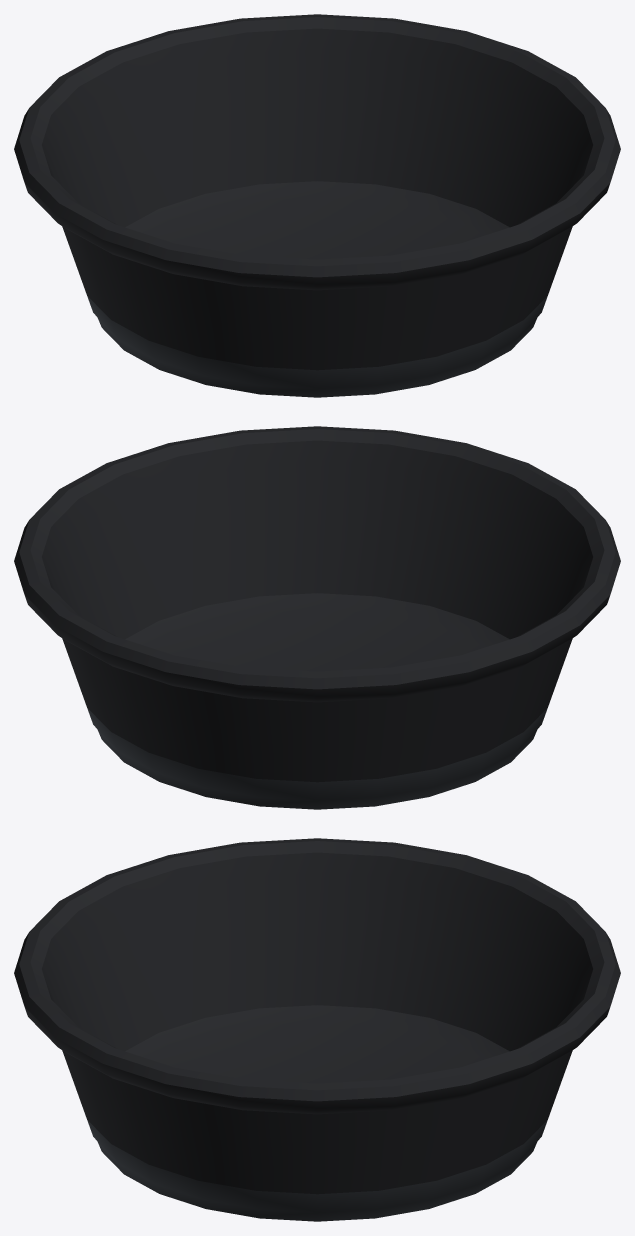
Rendered from SC_Home_RubberBasin_L_Black.gltf.
The picture shows the model from 3 angles, top to bottom: view 1: azimuth 30°, elevation 25°; view 2: azimuth 150°, elevation 25°; view 3: azimuth 270°, elevation 25°; orthographic projection.
Parts seen in each view (by area): view 1: SC_Home_RubberBasin_L_Black; view 2: SC_Home_RubberBasin_L_Black; view 3: SC_Home_RubberBasin_L_Black.
Boxes of the visible parts, <box> form: SC_Home_RubberBasin_L_Black: <box>14,14,620,397</box>; SC_Home_RubberBasin_L_Black: <box>14,426,620,809</box>; SC_Home_RubberBasin_L_Black: <box>14,838,620,1221</box>.
Bounding box in the file's own units: 0.81 × 0.249 × 0.81.
Materials: 1 (1 with a texture image).
